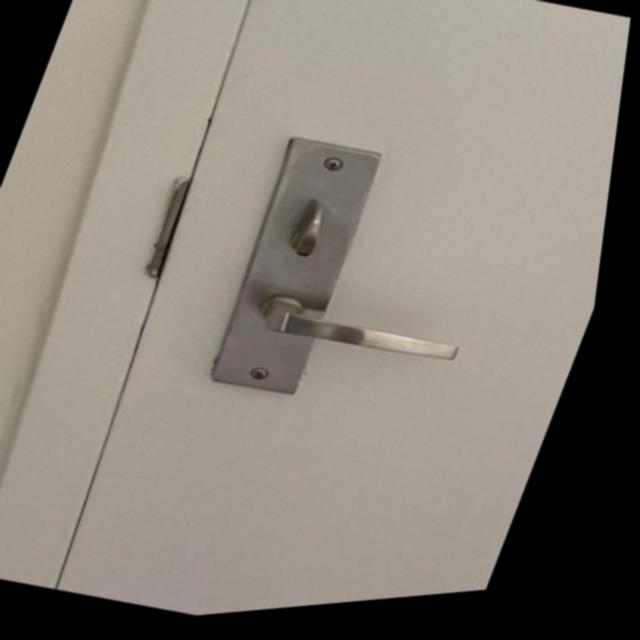door_handle: (237, 260, 506, 411)
